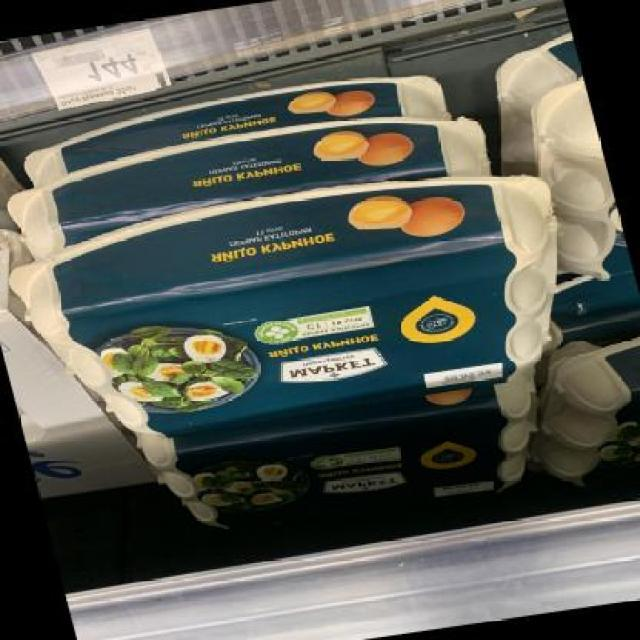Egg: (0, 153, 606, 459), (143, 386, 559, 547), (4, 112, 500, 246), (537, 330, 639, 458)
